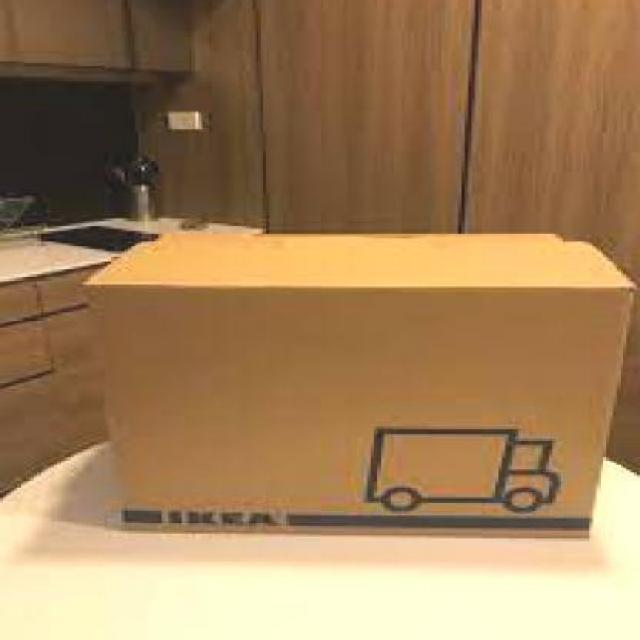box: (74, 213, 634, 556)
